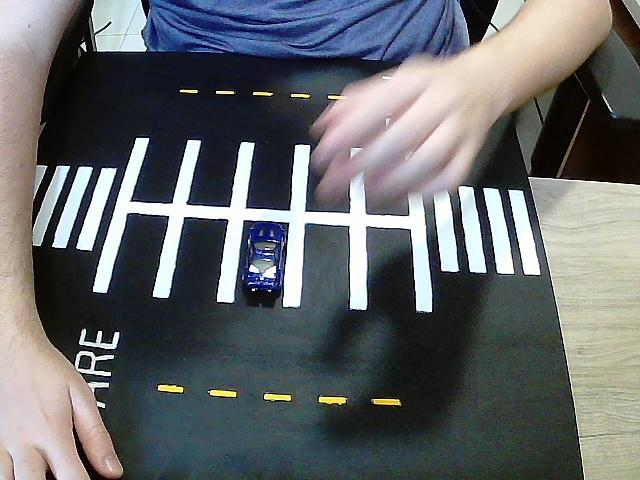Carro: (242, 221, 289, 297)
